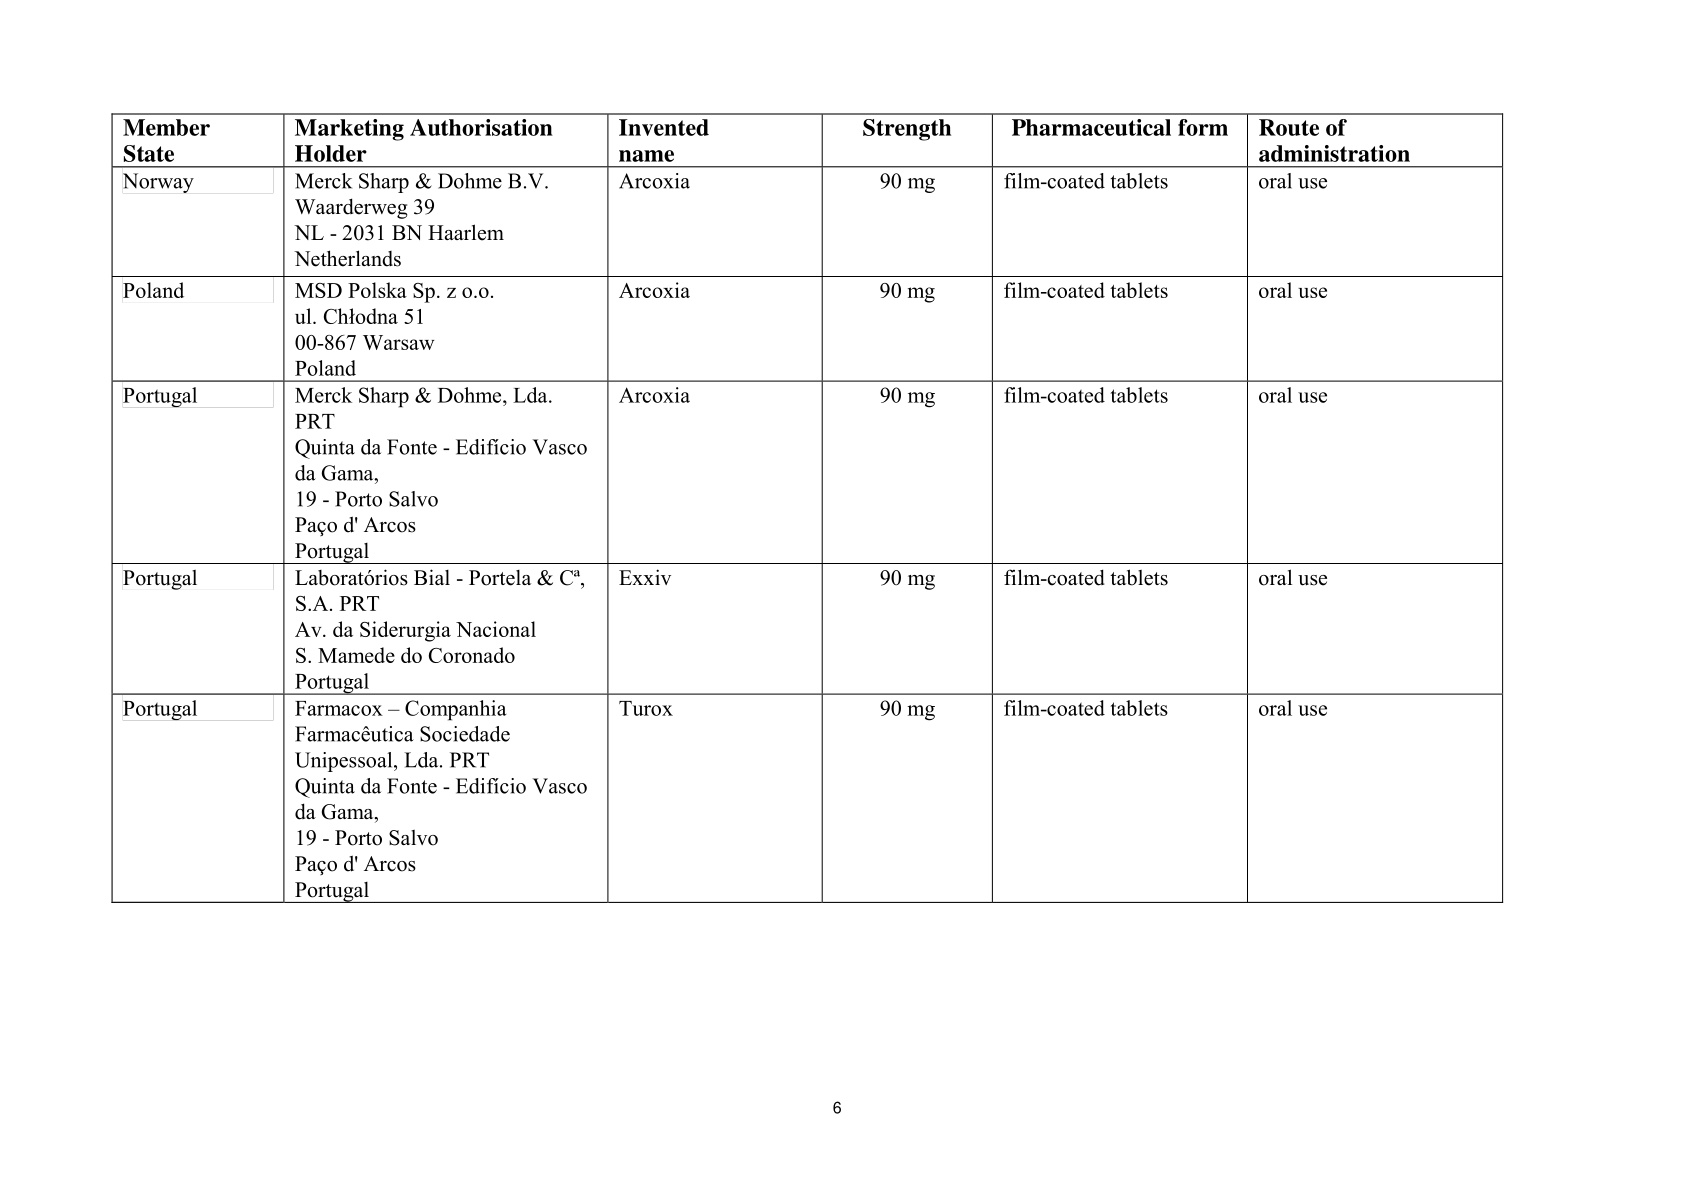full_lined: (111, 112, 1504, 903)
